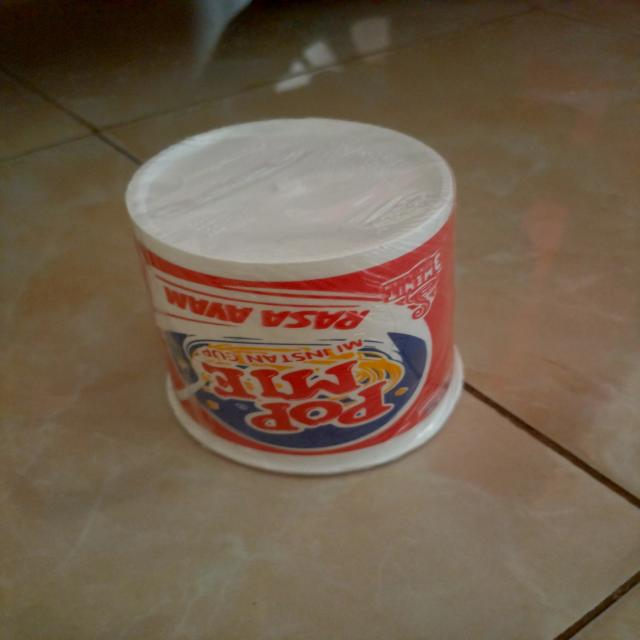popmie-rasa-ayam: (128, 116, 463, 478)
